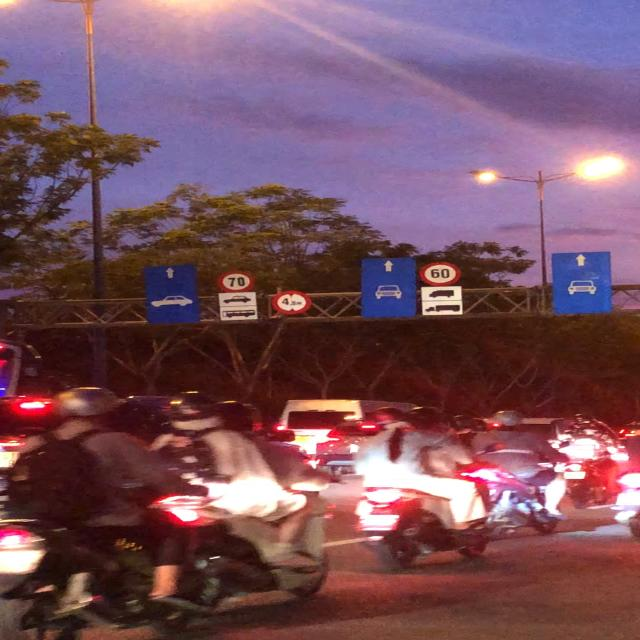Bien bao han che chieu cao: (268, 288, 315, 315)
Bien bao toc do toi da cho phep: (411, 260, 461, 286), (215, 270, 256, 294)
